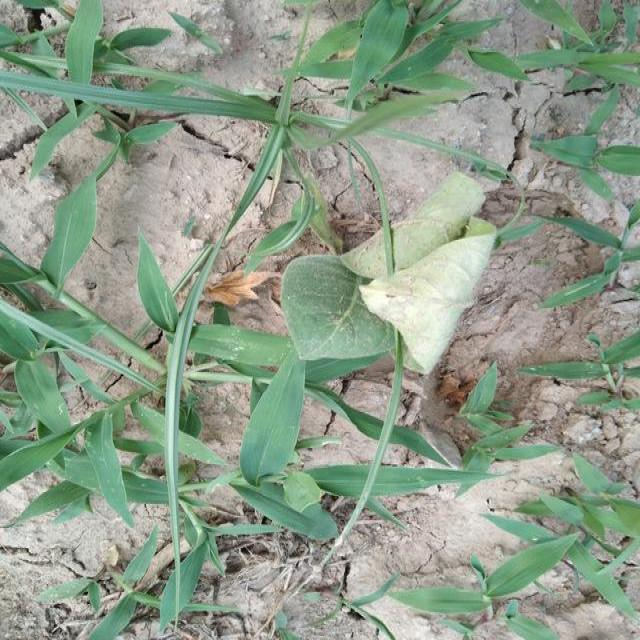crop: (288, 163, 498, 371)
